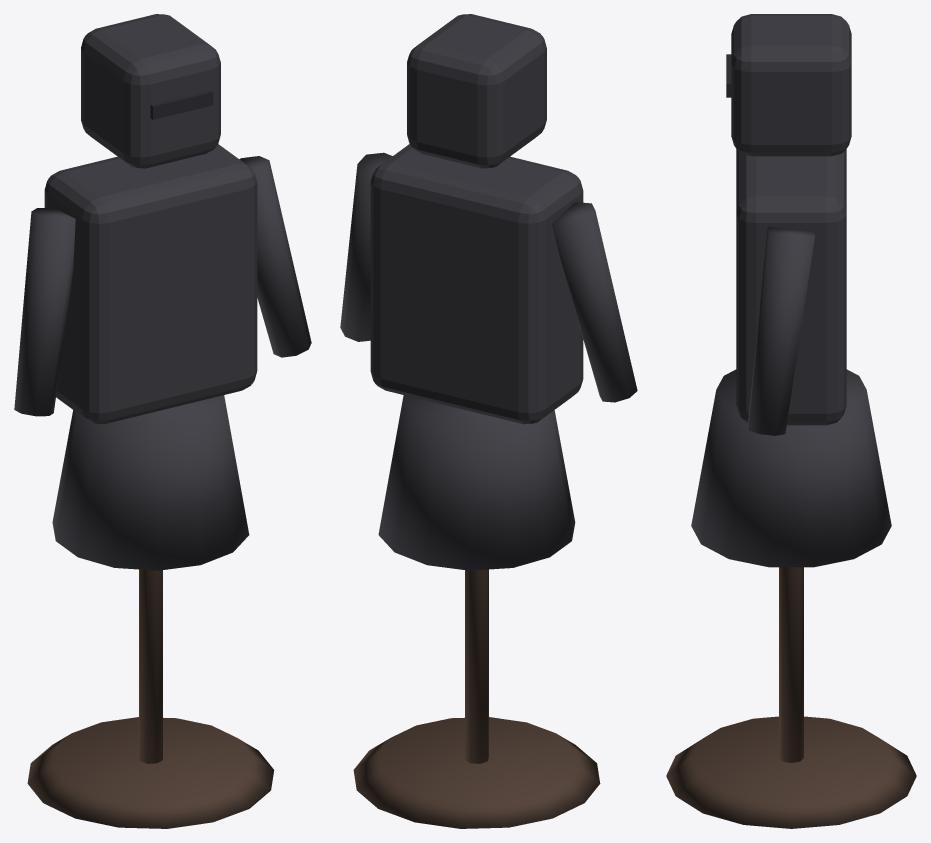
The model's file is mannequin_armor_stand.glb.
The picture shows the model from 3 angles, left to right: view 1: azimuth 30°, elevation 25°; view 2: azimuth 150°, elevation 25°; view 3: azimuth 270°, elevation 25°; orthographic projection.
Visible parts, largest first — view 1: GD_mannequin_armor_stand__m1, GD_mannequin_armor_stand__m0, GD_mannequin_armor_stand__m2; view 2: GD_mannequin_armor_stand__m1, GD_mannequin_armor_stand__m0; view 3: GD_mannequin_armor_stand__m1, GD_mannequin_armor_stand__m0.
Boxes of the visible parts, x1=… form: GD_mannequin_armor_stand__m1: x1=14, y1=14, x2=311, y2=570; GD_mannequin_armor_stand__m0: x1=27, y1=569, x2=274, y2=828; GD_mannequin_armor_stand__m2: x1=150, y1=90, x2=213, y2=119; GD_mannequin_armor_stand__m1: x1=340, y1=14, x2=637, y2=570; GD_mannequin_armor_stand__m0: x1=353, y1=569, x2=600, y2=828; GD_mannequin_armor_stand__m1: x1=691, y1=14, x2=891, y2=567; GD_mannequin_armor_stand__m0: x1=666, y1=567, x2=916, y2=828.
Bounding box in the file's own units: 0.6739 × 1.64 × 0.5.
